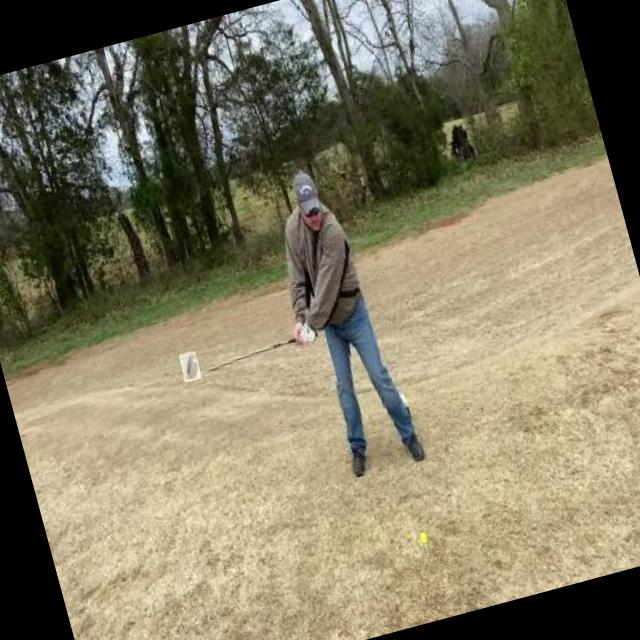club head: (178, 350, 202, 382)
